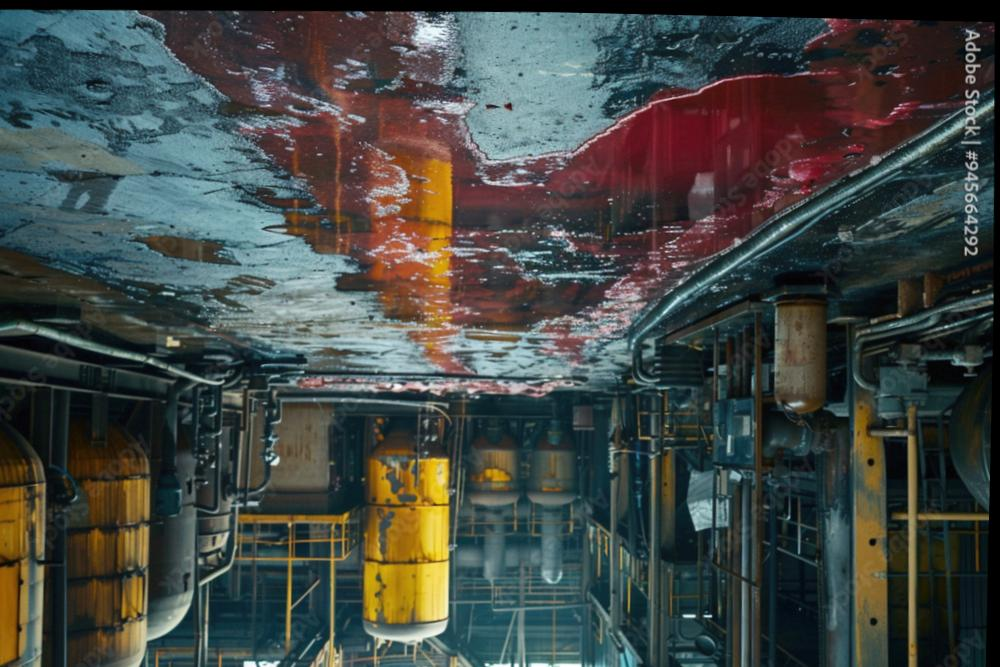leak: (143, 12, 994, 403), (113, 222, 254, 277)
